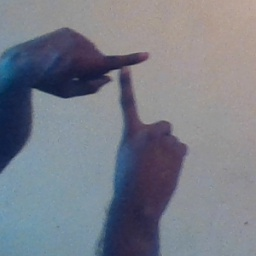T: (72, 34, 175, 141)
